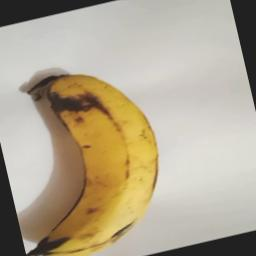Banana Unripe: (2, 44, 180, 256)
